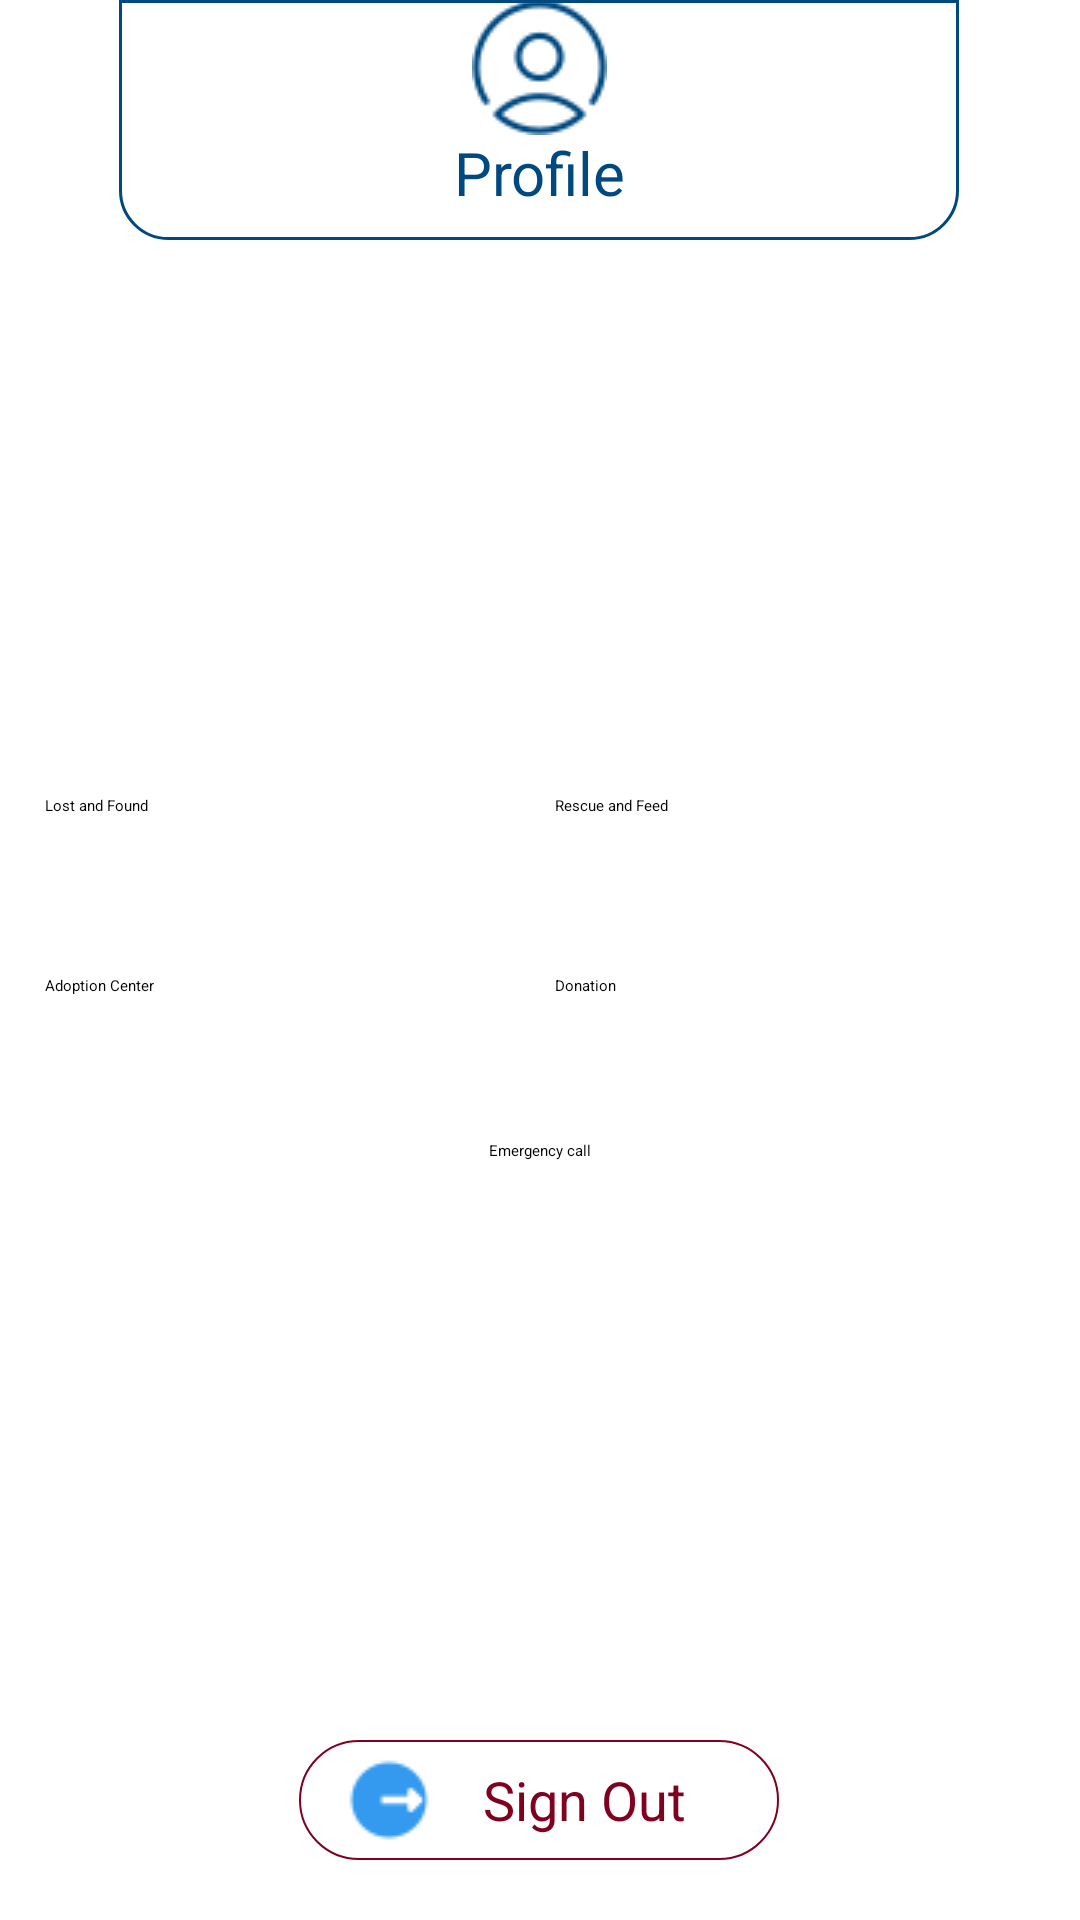

Point at icon controls on the screen. Image size 1080 x 1920, points as point (x, y).
user: point (539, 83)
